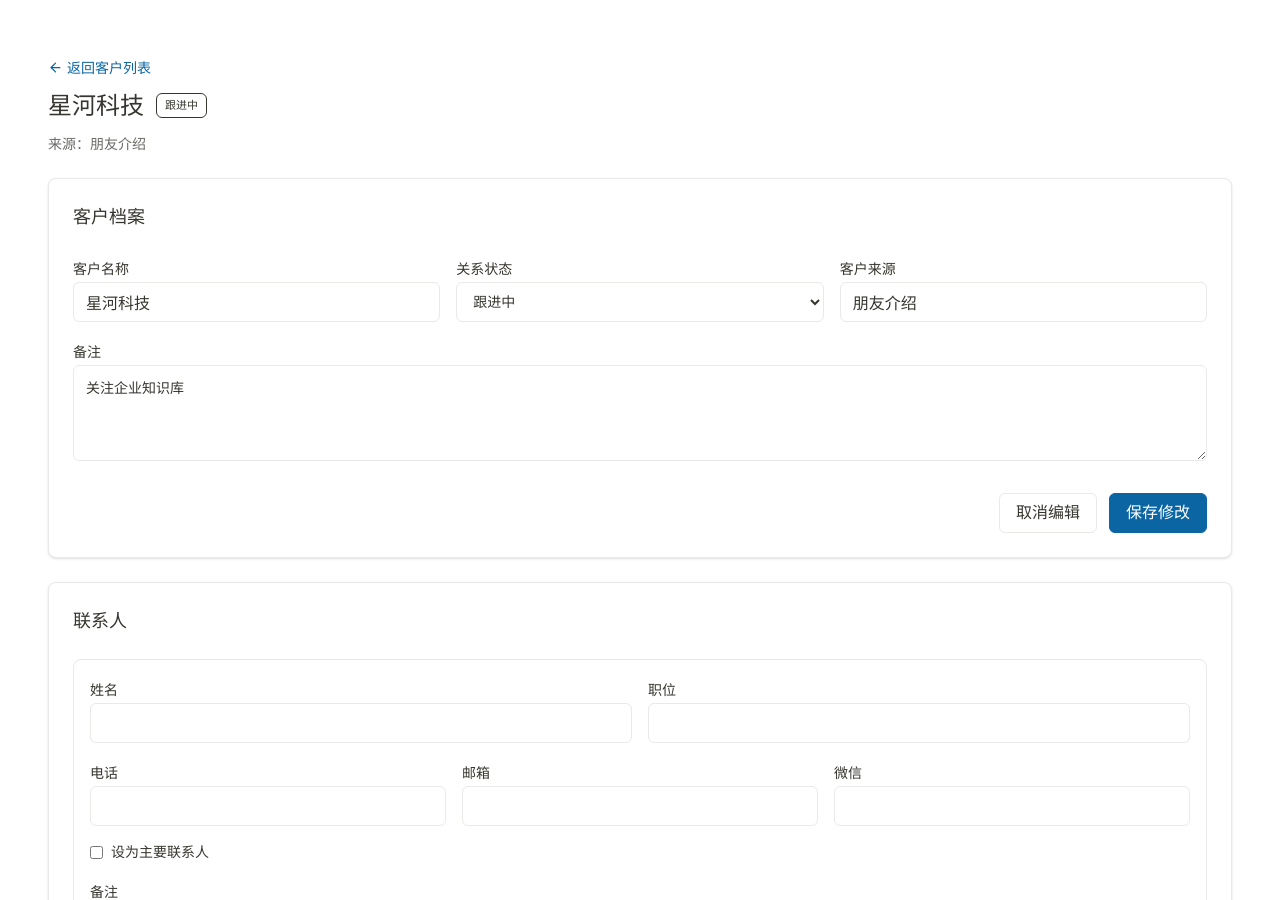
it: CustomerDetailPage › 保存客户档案后刷新主档案并回到只读
The image size is (1280, 900).
Replace the text in the field labelled "客户名称" with "星河科技有限公司" at [257, 302], box [73, 282, 440, 322]
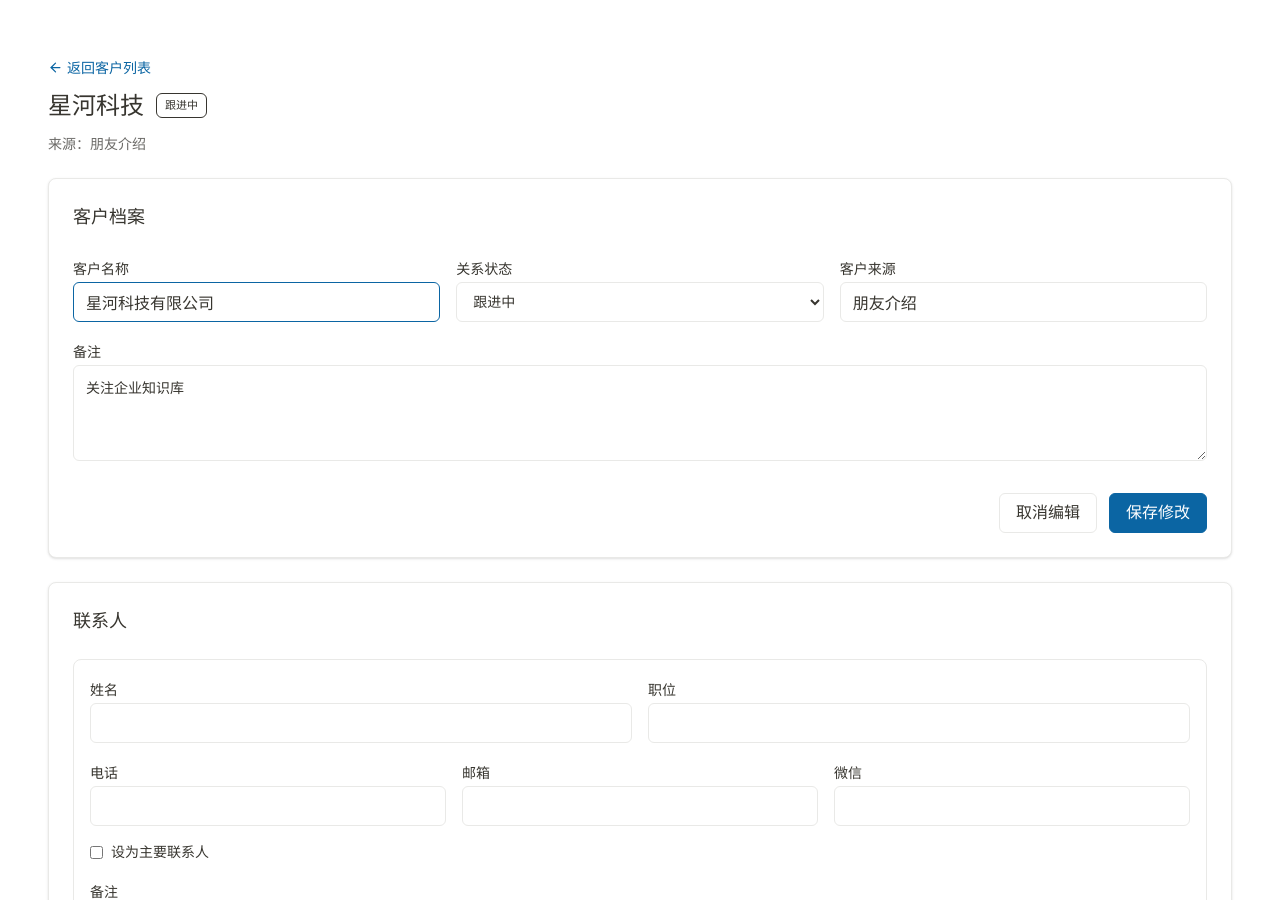
Click the button "保存修改".
click(1158, 513)  # box [1109, 493, 1207, 533]
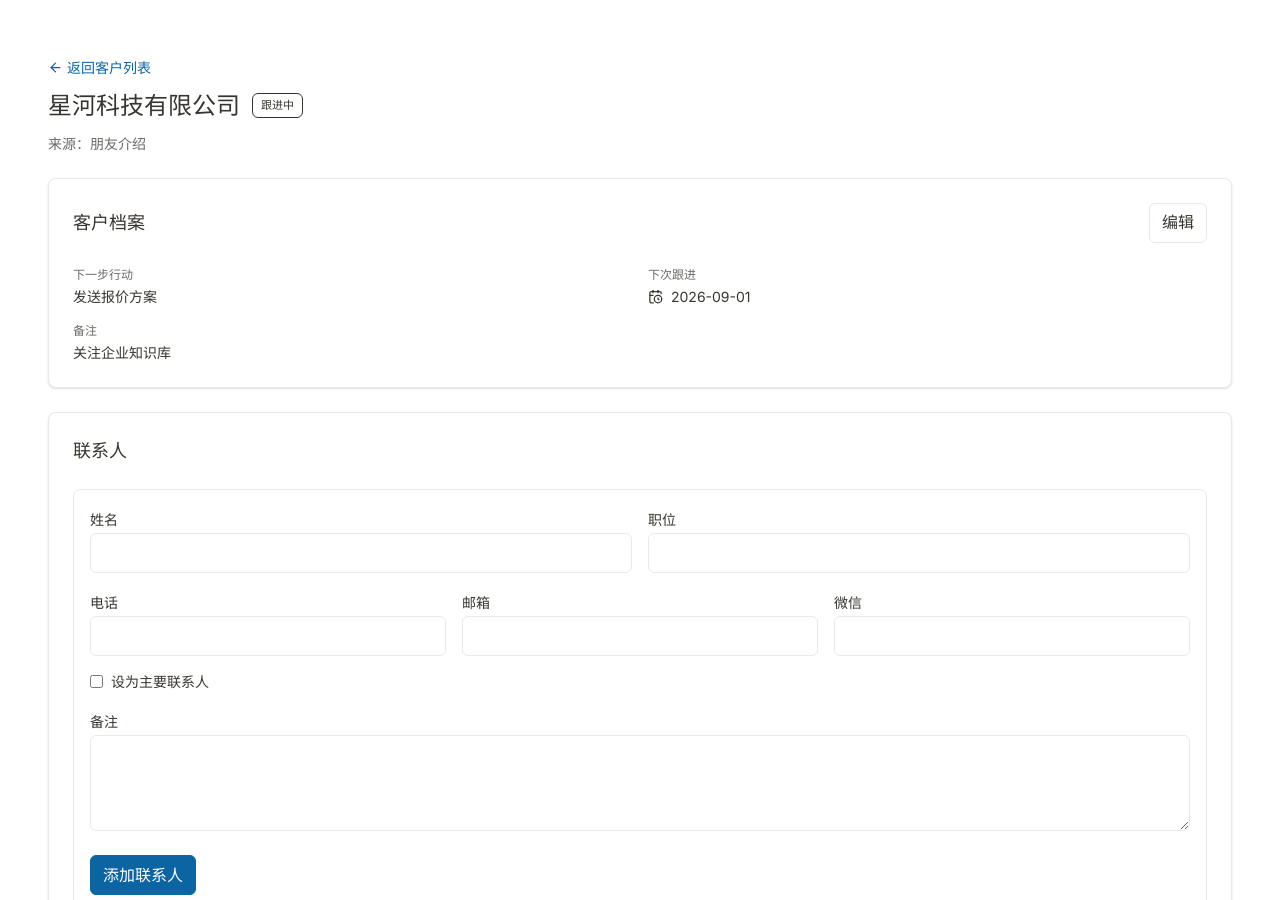
Expected: the button with aria-label "编辑客户档案" is shown, [1149, 202, 1207, 242]
Expected: the heading "星河科技有限公司" is shown, [48, 90, 240, 122]
Expected: the label labelled "客户名称" is gone
